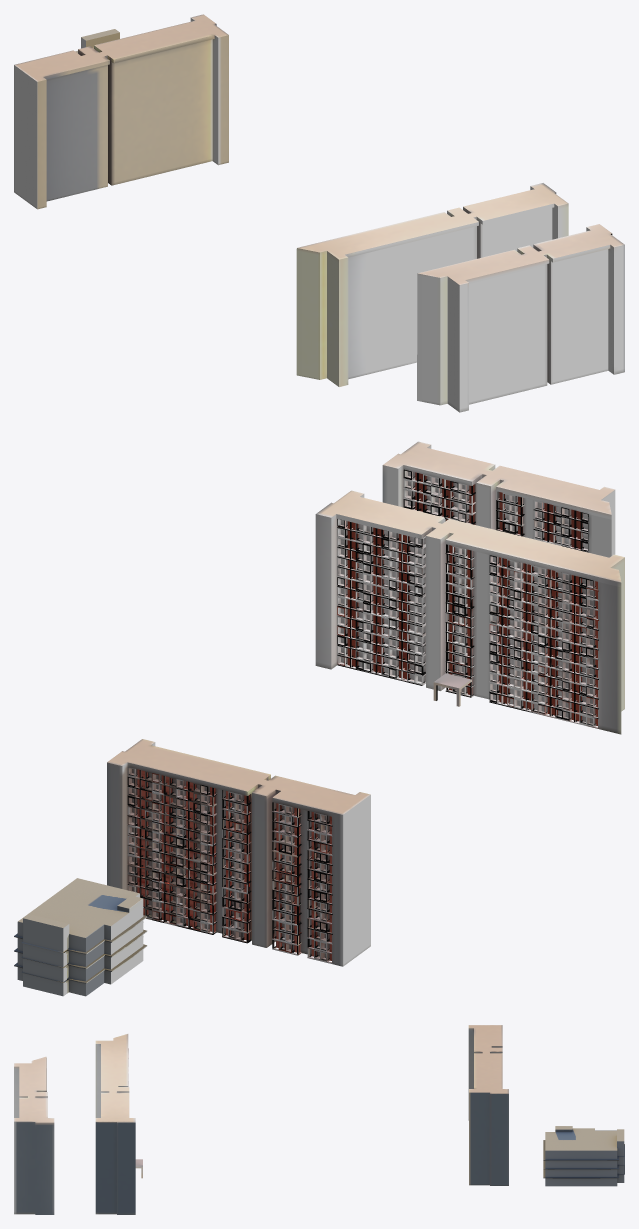
3 renders of one model, top to bottom at view 1: azimuth 30°, elevation 25°; view 2: azimuth 150°, elevation 25°; view 3: azimuth 270°, elevation 25°, orthographic. The views are drawn at different scales.
Parts seen in each view (by area): view 1: Hall 006.002, Hall 011, Hall 010; view 2: Hall 010, Hall 006.002, Hall 011, Hall 005.003; view 3: Hall 010, Hall 006.002, Hall 011, Hall 005.003.
Boxes of the visible parts, x1,y1,x2,y2 form: Hall 006.002: (14,14,228,209); Hall 011: (417,224,624,412); Hall 010: (296,183,568,386); Hall 010: (315,490,624,734); Hall 006.002: (107,739,370,966); Hall 011: (382,441,615,557); Hall 005.003: (14,878,147,996); Hall 010: (95,1034,142,1214); Hall 006.002: (468,1025,508,1185); Hall 011: (14,1056,54,1214); Hall 005.003: (543,1126,624,1186).
Size of the model in its own units: 106 by 46.94 by 281.
4 materials, 4 textured.
